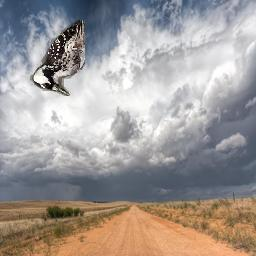Woodpecker: (31, 20, 86, 96)
